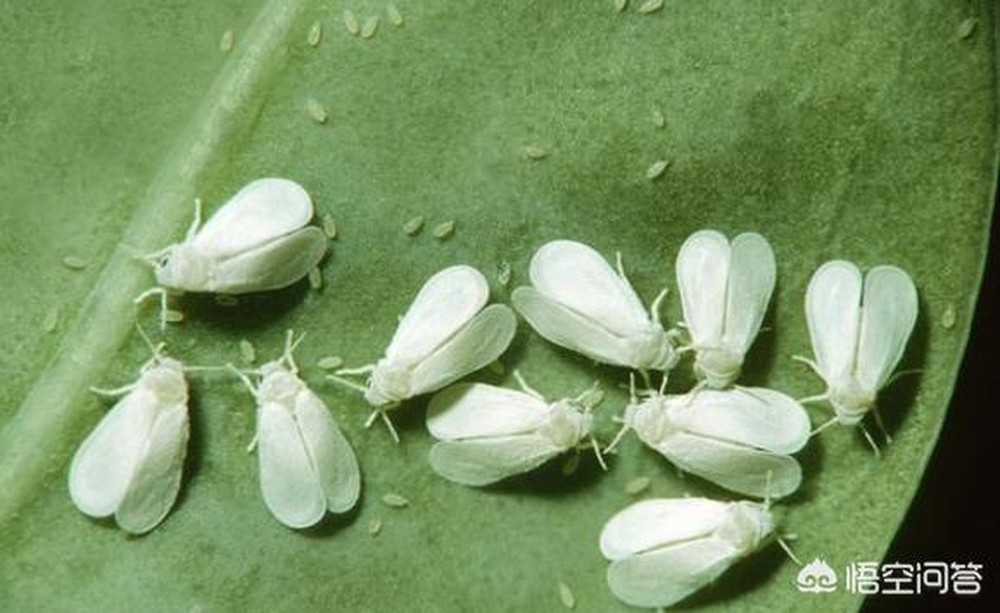Mosca Blanca: (107, 173, 350, 336), (63, 338, 223, 547), (226, 336, 373, 540), (353, 265, 519, 438), (507, 239, 689, 396), (612, 372, 819, 502), (788, 257, 923, 456), (424, 373, 624, 501), (604, 483, 807, 605), (670, 226, 784, 394)
